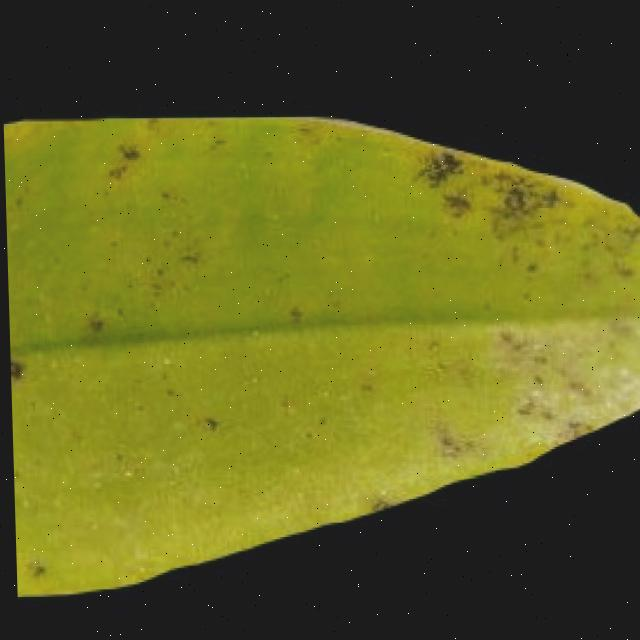mite: (80, 131, 224, 442), (436, 190, 471, 218), (498, 182, 527, 213), (112, 141, 141, 159), (535, 185, 557, 208), (175, 249, 196, 266), (197, 414, 216, 430), (519, 259, 537, 273)
spots: (3, 105, 640, 605)
